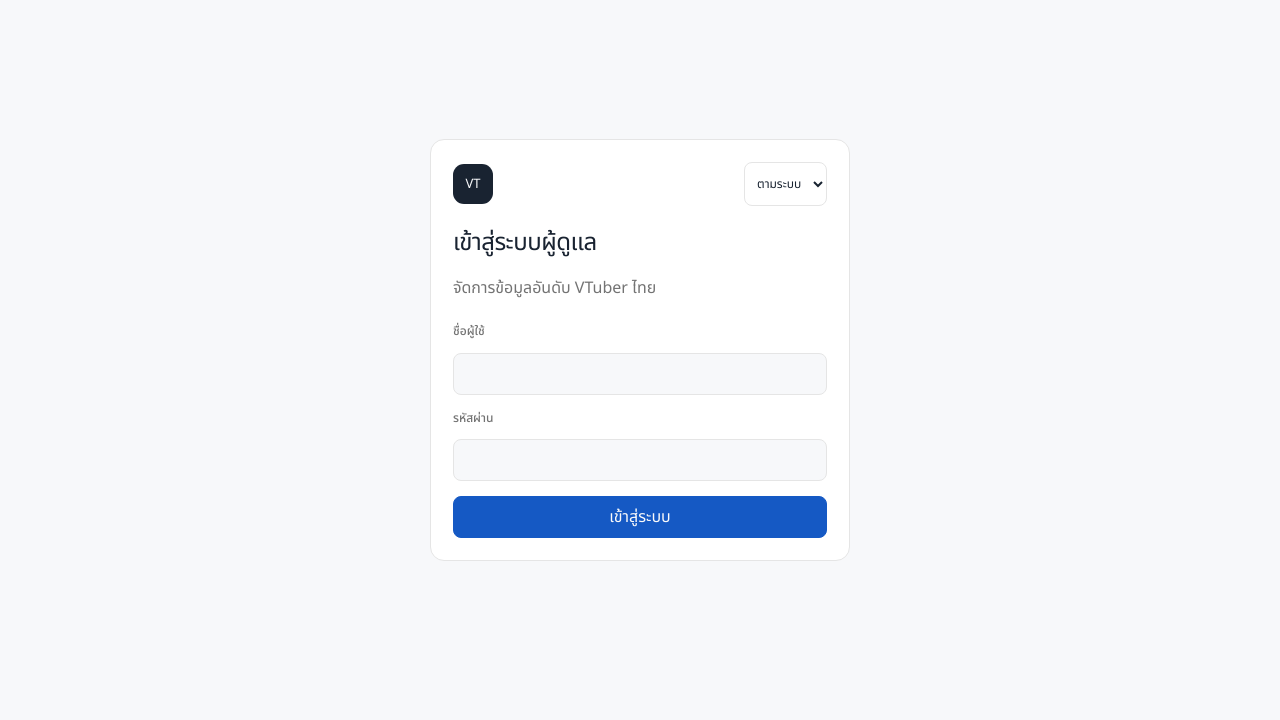
Admin login journey › enters the console after a successful login
The width and height of the screenshot is (1280, 720).
Type "staff" into the field labelled "ชื่อผู้ใช้" at (640, 374), box [453,353,827,395]
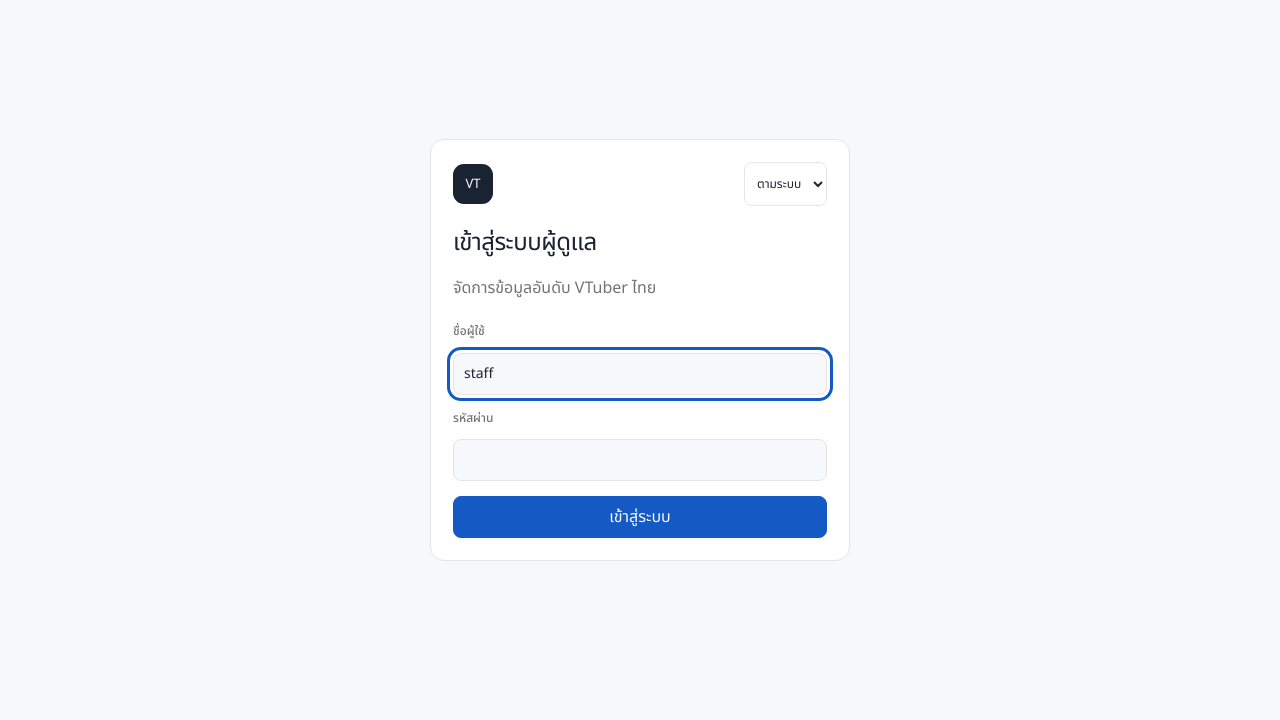
Type "correct-password" into the password field labelled "รหัสผ่าน" at (640, 460), box [453,439,827,481]
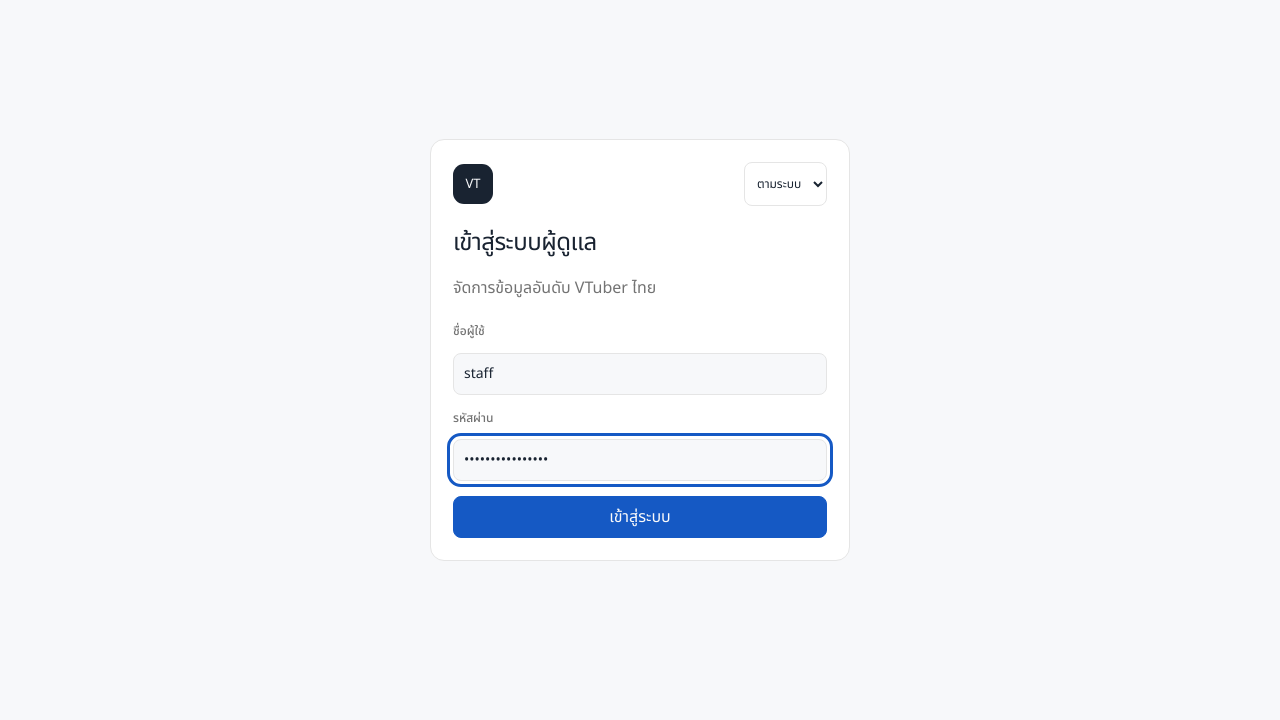
Click the button "เข้าสู่ระบบ" at (640, 517), box [453,496,827,538]
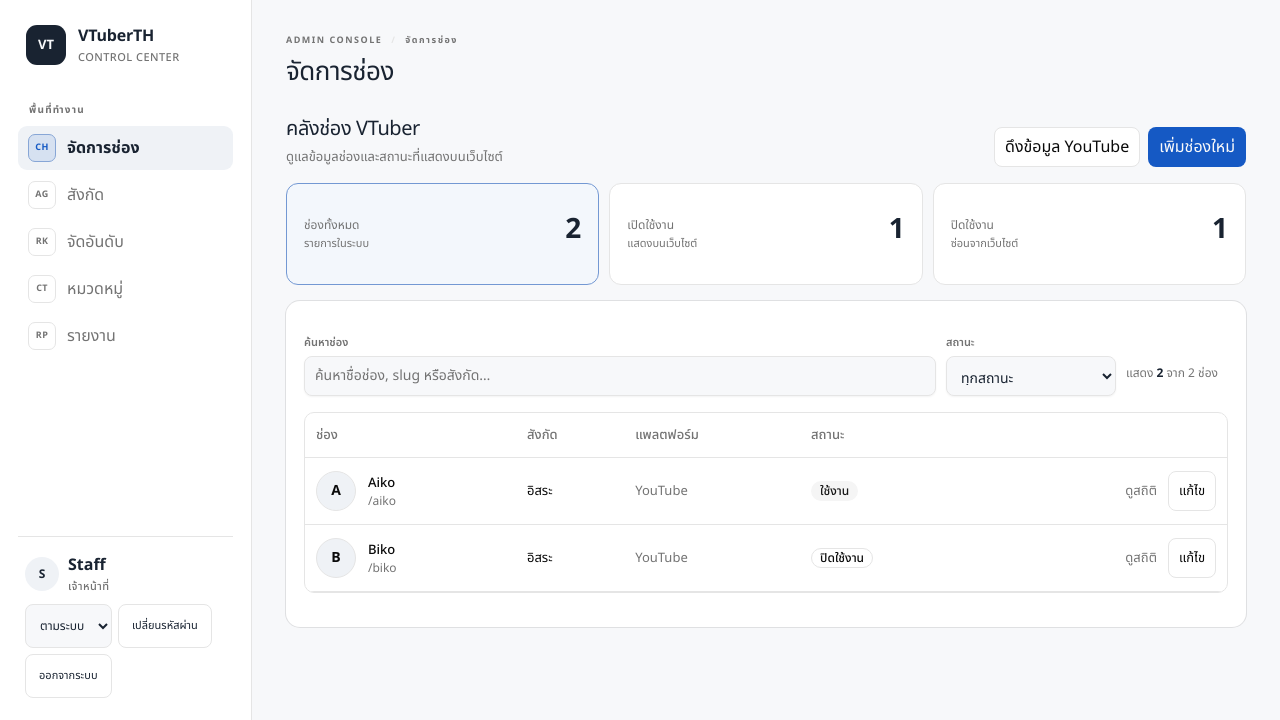
Expected: the heading "คลังช่อง VTuber" is shown, [286,114,420,144]
Expected: the text "Aiko" is shown, [368,474,396,493]
